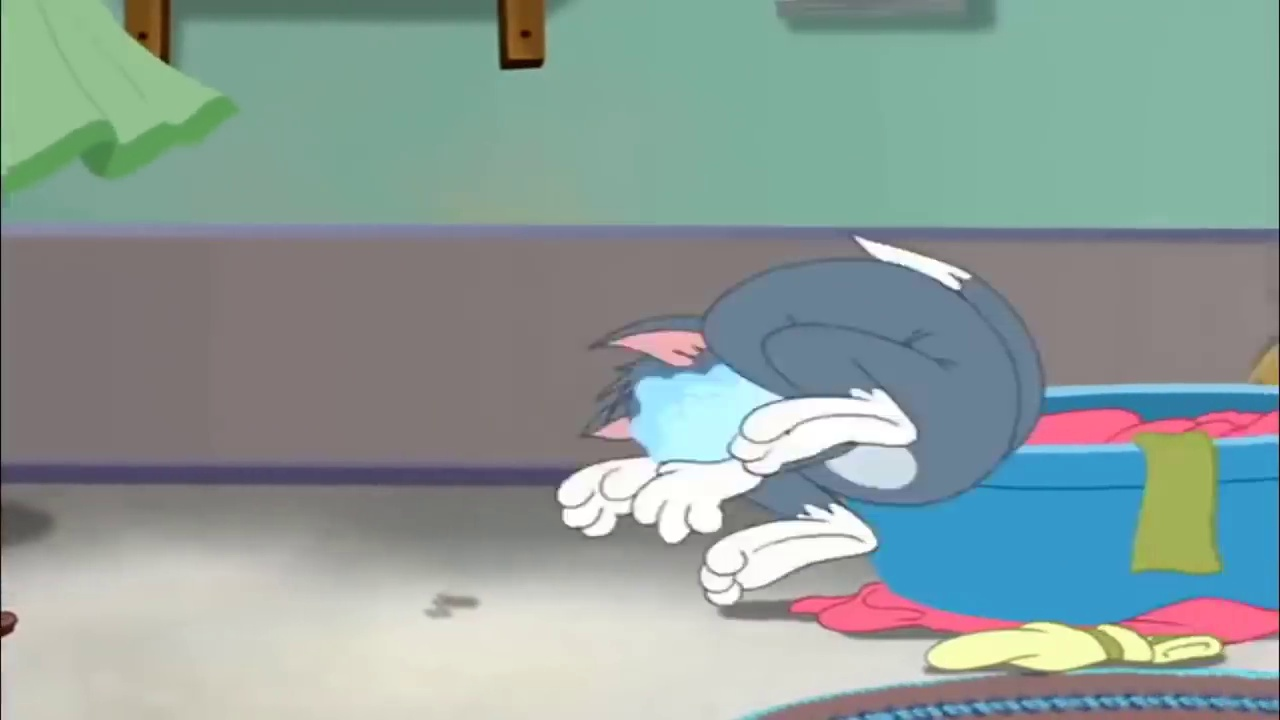face: (613, 365, 753, 460)
